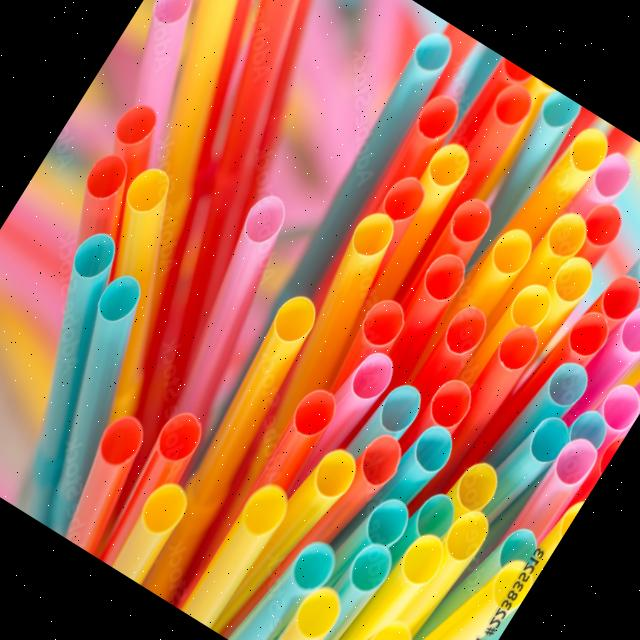plastic: (134, 174, 332, 415)
